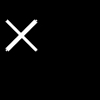single_crochet: (6, 20, 36, 50)
